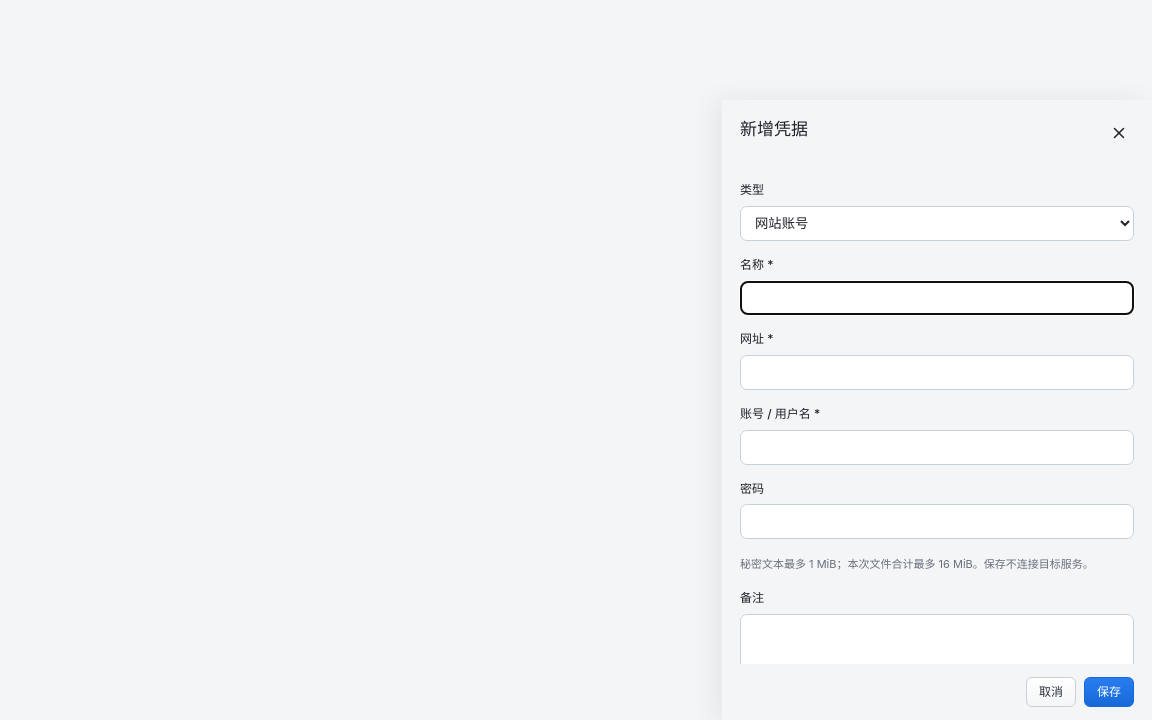
credential editing and validation › blocks incomplete website records before requesting a save
The width and height of the screenshot is (1152, 720).
Select "网站账号" in the dropdown labelled "类型". click: coordinates (937, 223)
box: [740,206,1134,241]
Click the button "保存". click: coordinates (1109, 692)
box: [1084,677,1134,707]
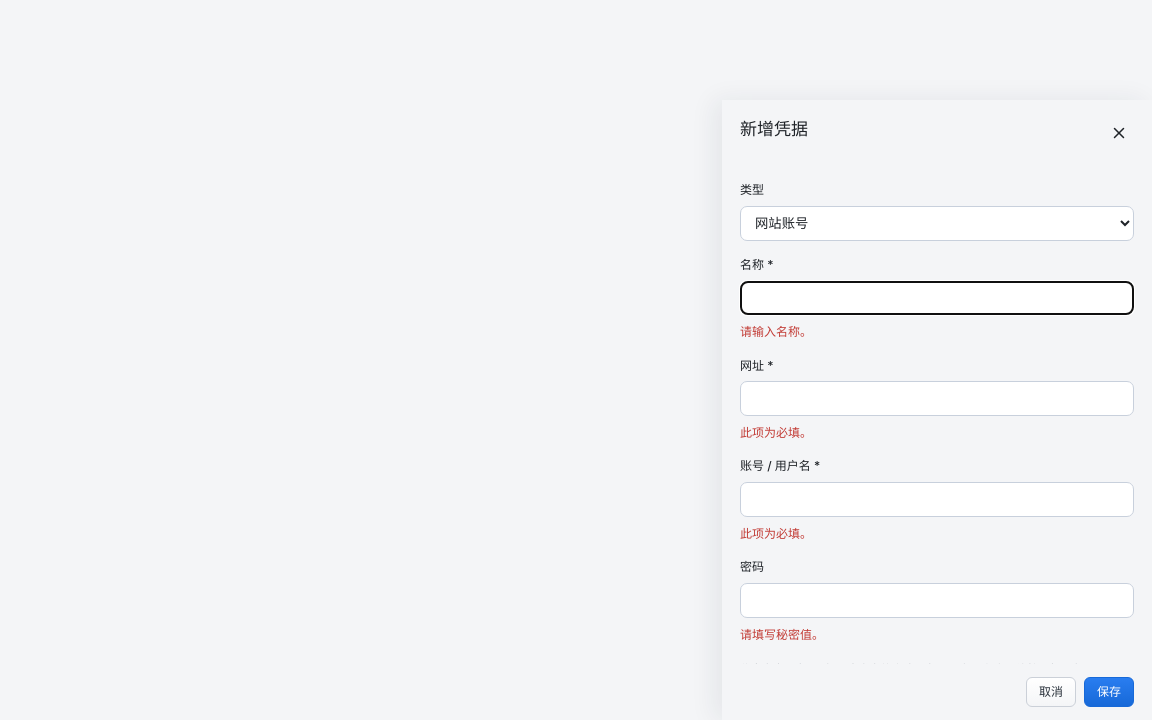
Check: the text "请输入名称。" is shown, box [740,324,812,339]
Check: the text "请填写秘密值。" is shown, box [740,627,824,642]
